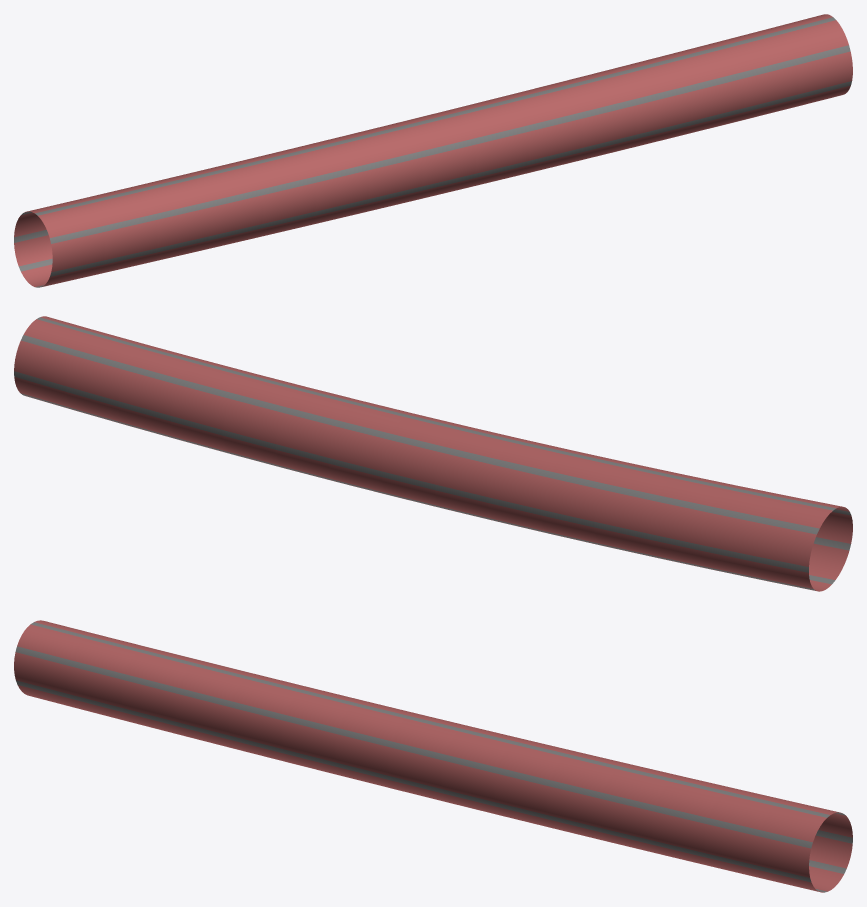
File: cavo diviso.FBX
The picture shows the model from 3 angles, top to bottom: view 1: azimuth 30°, elevation 25°; view 2: azimuth 150°, elevation 25°; view 3: azimuth 330°, elevation 25°; orthographic projection.
Visible parts, largest first — view 1: Object001, Object015, Object014, Object013, Object012, Object011, Object010, Object009, Object008, Object007, Object006, Object005 (+3 smaller); view 2: Object001, Object002, Object003, Object004, Object005, Object006, Object007, Object008, Object009, Object010, Object011, Object012 (+3 smaller); view 3: Object015, Object014, Object013, Object012, Object011, Object010, Object009, Object008, Object007, Object006, Object005, Object004 (+3 smaller).
Boxes of the visible parts, x1=… form: Object001: x1=14, y1=199, x2=104, y2=287; Object015: x1=771, y1=14, x2=852, y2=108; Object014: x1=717, y1=28, x2=798, y2=121; Object013: x1=664, y1=42, x2=744, y2=135; Object012: x1=610, y1=56, x2=690, y2=148; Object011: x1=556, y1=69, x2=636, y2=161; Object010: x1=502, y1=83, x2=582, y2=175; Object009: x1=450, y1=96, x2=529, y2=187; Object008: x1=396, y1=110, x2=475, y2=200; Object007: x1=343, y1=123, x2=422, y2=213; Object006: x1=290, y1=136, x2=369, y2=225; Object005: x1=237, y1=149, x2=316, y2=238; Object001: x1=755, y1=496, x2=852, y2=591; Object002: x1=701, y1=485, x2=787, y2=580; Object003: x1=647, y1=474, x2=734, y2=569; Object004: x1=594, y1=462, x2=679, y2=557; Object005: x1=541, y1=451, x2=626, y2=545; Object006: x1=487, y1=439, x2=573, y2=533; Object007: x1=434, y1=426, x2=520, y2=521; Object008: x1=381, y1=413, x2=466, y2=508; Object009: x1=328, y1=401, x2=413, y2=495; Object010: x1=276, y1=387, x2=360, y2=482; Object011: x1=223, y1=374, x2=308, y2=468; Object012: x1=170, y1=360, x2=255, y2=454; Object015: x1=757, y1=800, x2=852, y2=892; Object014: x1=704, y1=788, x2=786, y2=879; Object013: x1=652, y1=776, x2=734, y2=867; Object012: x1=599, y1=764, x2=682, y2=854; Object011: x1=547, y1=751, x2=629, y2=842; Object010: x1=494, y1=739, x2=576, y2=829; Object009: x1=441, y1=726, x2=523, y2=816; Object008: x1=388, y1=713, x2=470, y2=803; Object007: x1=335, y1=701, x2=417, y2=790; Object006: x1=282, y1=687, x2=363, y2=777; Object005: x1=228, y1=674, x2=310, y2=763; Object004: x1=175, y1=661, x2=258, y2=750.
Size of the model in its own units: 939 by 91.37 by 91.37.
